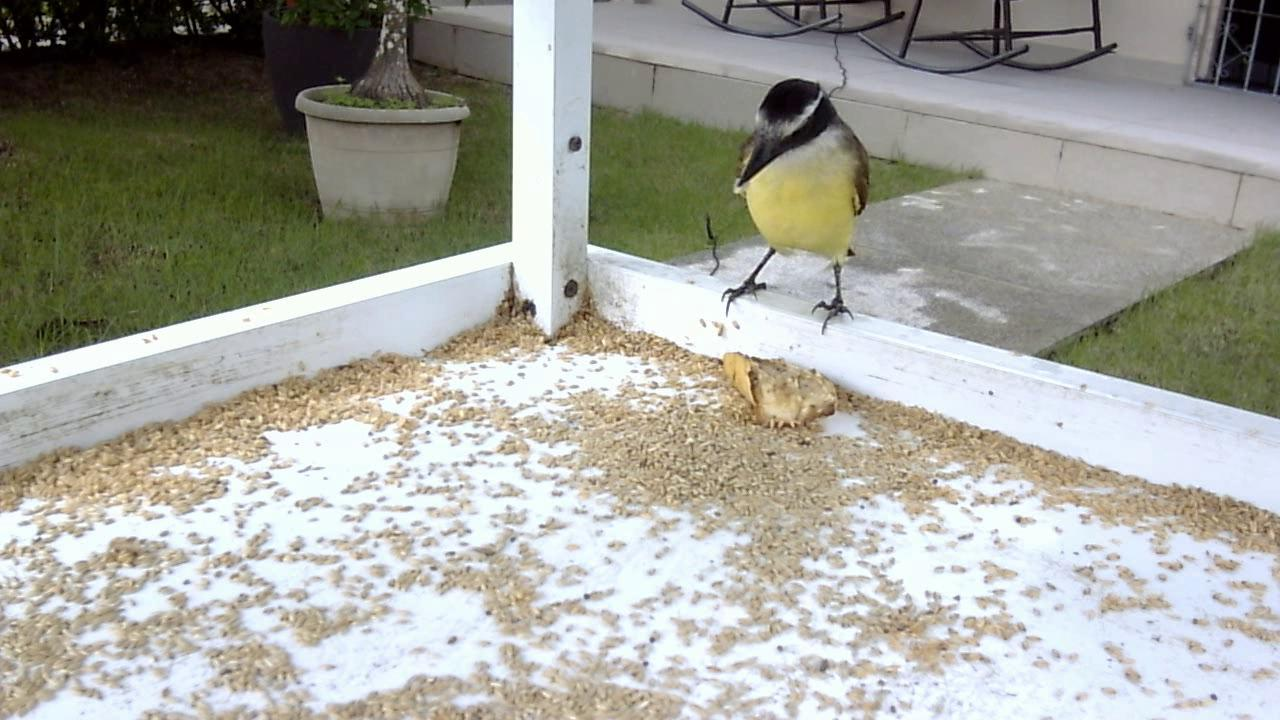bem_te_vi: (698, 61, 884, 351)
